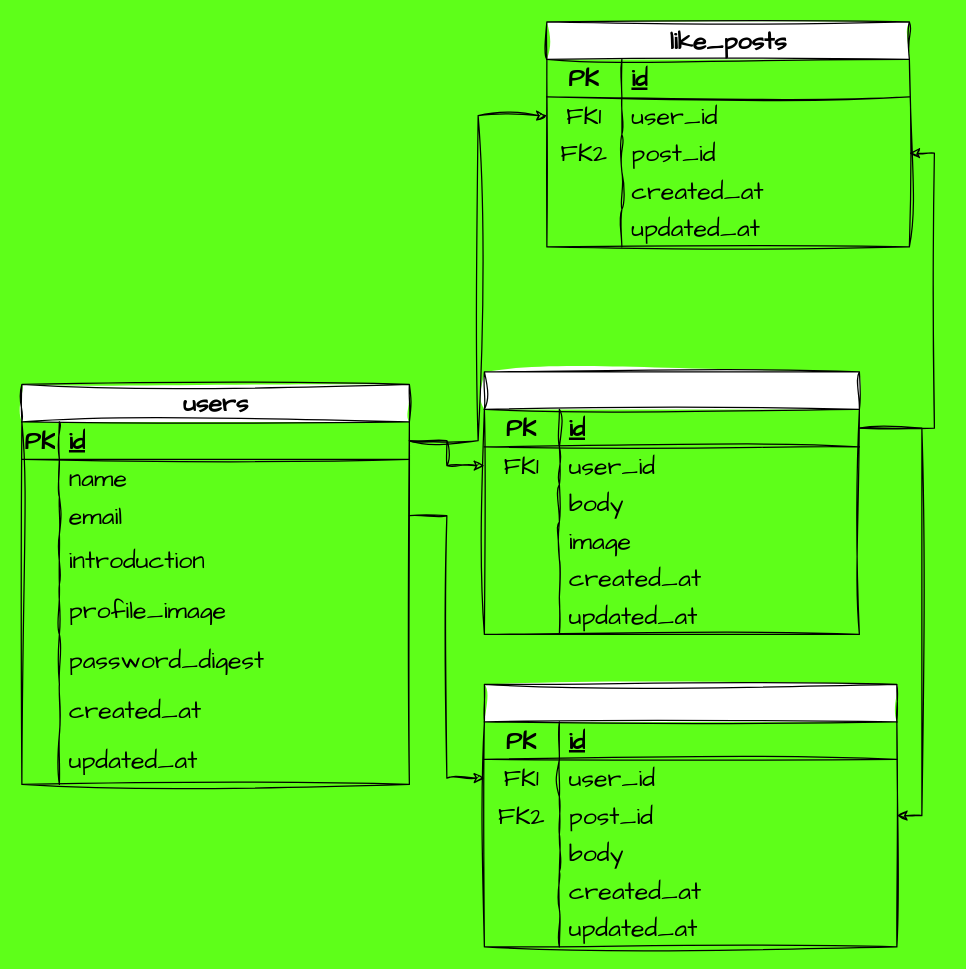
Image size: 966x969. Some labels were removed from this diagram. The shapes that lost their labels are listed below. From the top down, each one's box as (x1, y1, x2, y2) in pixels, then its label:
(483, 371, 859, 634): posts
(483, 683, 897, 947): comments
